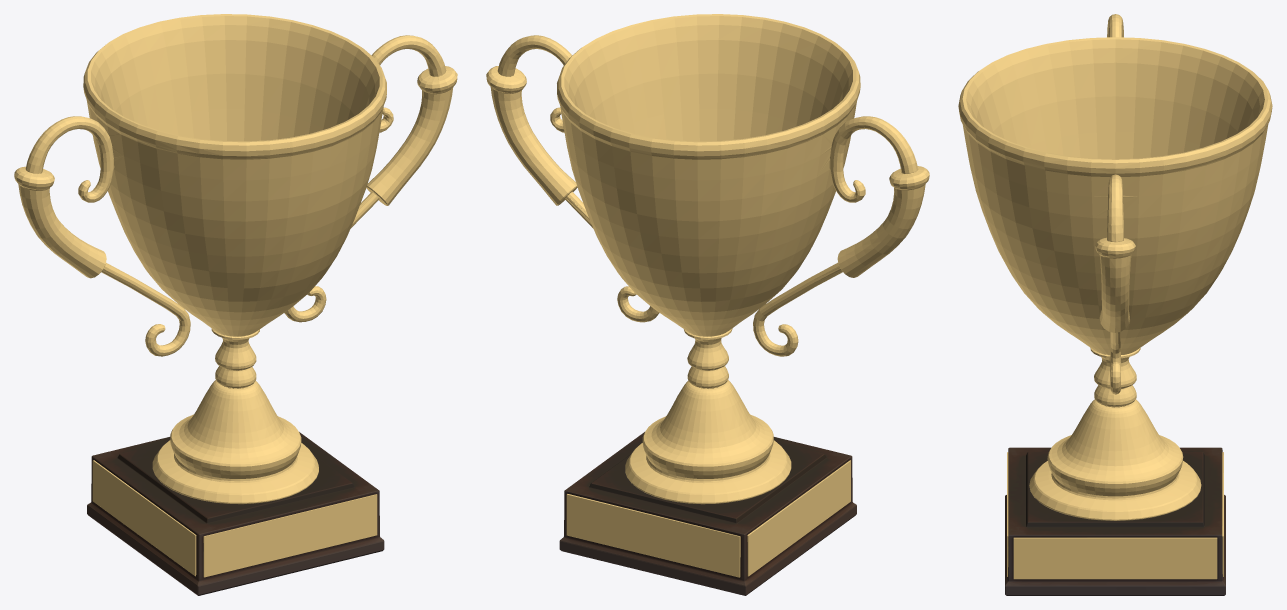
File: cup.gltf
3 views of the same model, side by side, from view 1: azimuth 30°, elevation 25°; view 2: azimuth 150°, elevation 25°; view 3: azimuth 270°, elevation 25° (orthographic).
Bounding box in the file's own units: 0.0262 × 0.0261 × 0.0164.
1 material, 1 textured.
